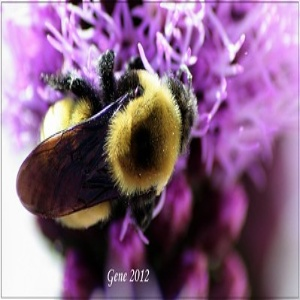bee: (14, 50, 199, 244)
